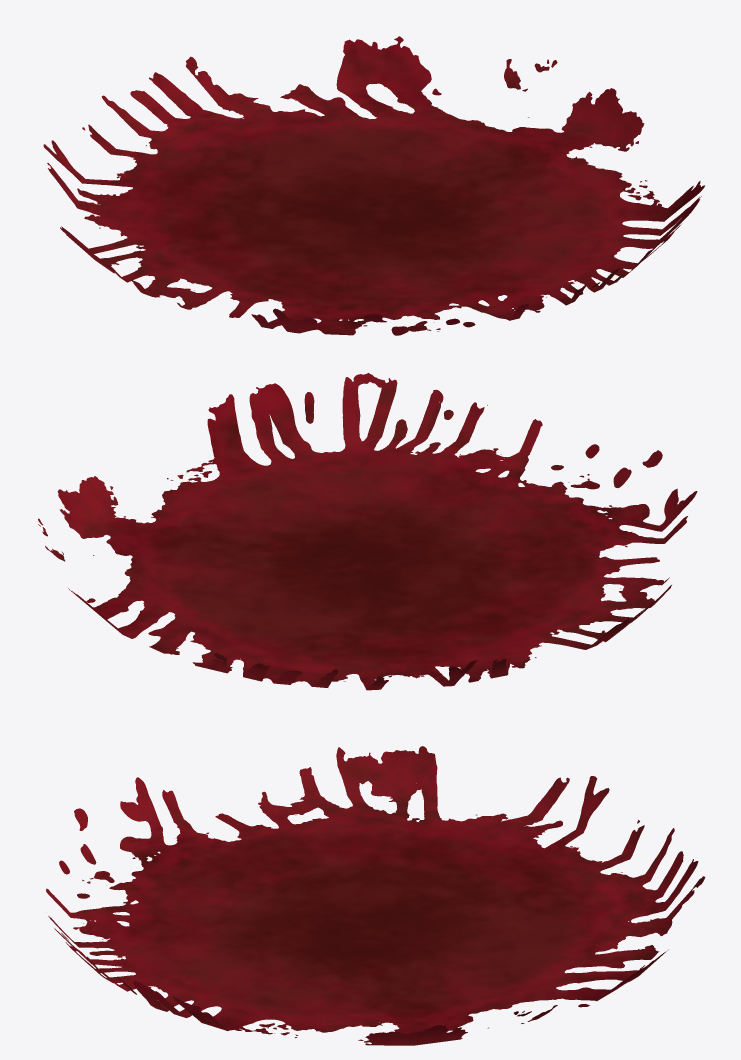
Rendered from NPC_Beggar_Blood_in_the_plate.FBX.
3 renders of one model, top to bottom at view 1: azimuth 30°, elevation 25°; view 2: azimuth 150°, elevation 25°; view 3: azimuth 270°, elevation 25°, orthographic.
Visible parts, largest first — view 1: NPC_Beggar_03_Blood_in_the_plate; view 2: NPC_Beggar_03_Blood_in_the_plate; view 3: NPC_Beggar_03_Blood_in_the_plate.
Part boxes in pixels (x1,y1,x2,y2): NPC_Beggar_03_Blood_in_the_plate: (43,36,705,335); NPC_Beggar_03_Blood_in_the_plate: (38,373,697,690); NPC_Beggar_03_Blood_in_the_plate: (46,746,705,1045).
Size of the model in its own units: 35.73 by 3.31 by 35.67.
